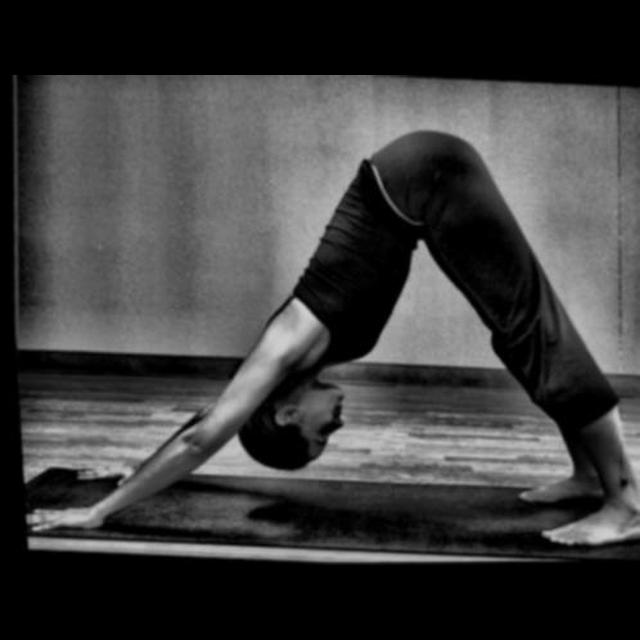Downward-Facing_Dog: (25, 124, 640, 547)
